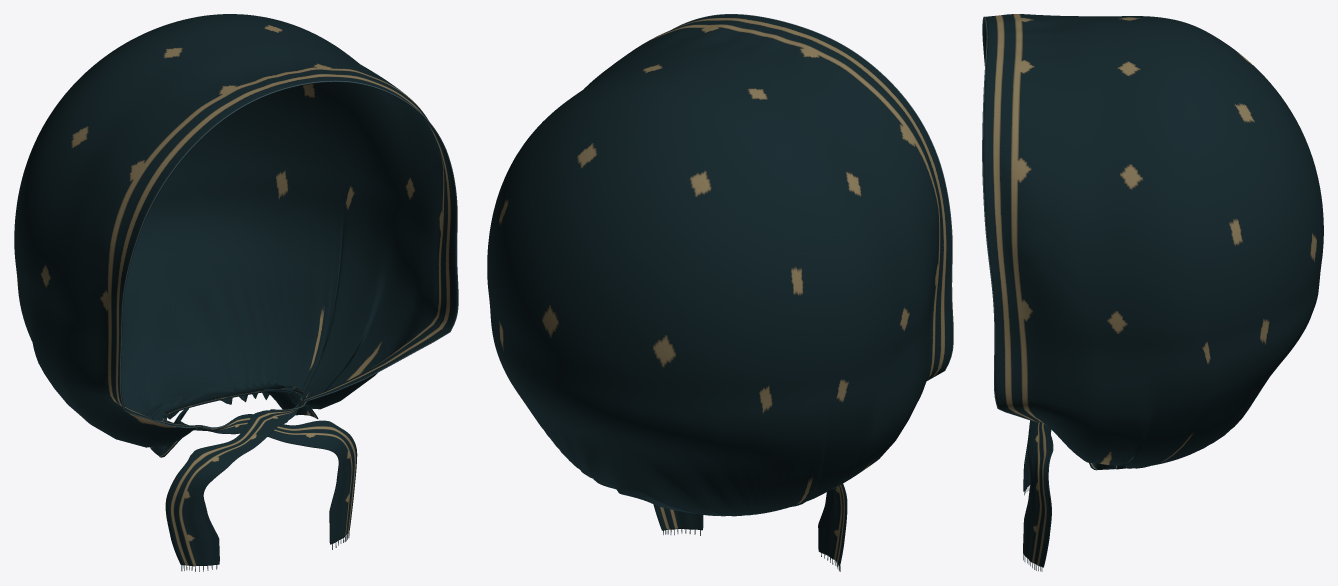
Rendered from Masculine-Masculine-middle-part-jersey-pashmina250-headgear-80ee5d8e.glb.
3 renders of one model, left to right at view 1: azimuth 30°, elevation 25°; view 2: azimuth 150°, elevation 25°; view 3: azimuth 270°, elevation 25°, orthographic. The views are drawn at different scales.
Parts seen in each view (by area): view 1: 226 headgear / Headwear / continuous woven pashmina239, 226 headgear / Headwear / face edge239; view 2: 226 headgear / Headwear / continuous woven pashmina239, 226 headgear / Headwear / face edge239; view 3: 226 headgear / Headwear / continuous woven pashmina239, 226 headgear / Headwear / face edge239.
Part boxes in pixels (left/top/right/bottom): 226 headgear / Headwear / continuous woven pashmina239: left=14, top=14, right=457, bottom=566; 226 headgear / Headwear / face edge239: left=119, top=80, right=458, bottom=428; 226 headgear / Headwear / continuous woven pashmina239: left=487, top=14, right=952, bottom=566; 226 headgear / Headwear / face edge239: left=672, top=14, right=953, bottom=380; 226 headgear / Headwear / continuous woven pashmina239: left=983, top=14, right=1323, bottom=567; 226 headgear / Headwear / face edge239: left=982, top=16, right=1041, bottom=422.
Size of the model in its own units: 1.1 by 1.41 by 0.882.
3 materials, 1 textured.
